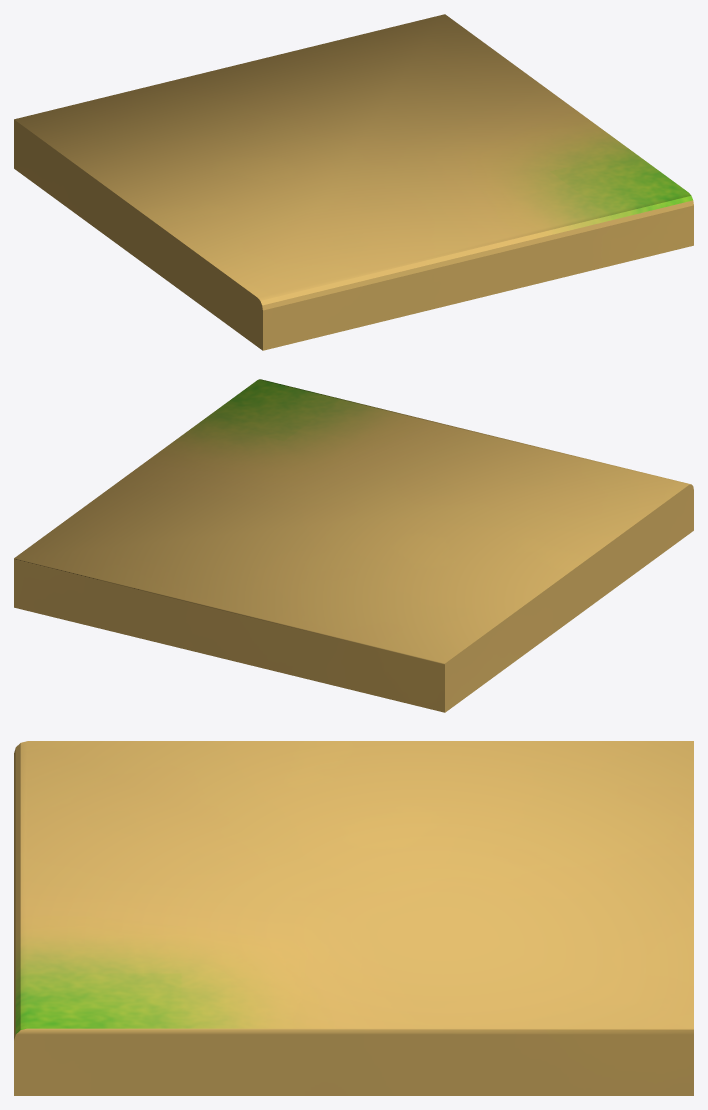
Rendered from Map019.obj.
The picture shows the model from 3 angles, top to bottom: view 1: azimuth 30°, elevation 25°; view 2: azimuth 150°, elevation 25°; view 3: azimuth 270°, elevation 25°; orthographic projection. The views are drawn at different scales.
Visible parts, largest first — view 1: Map.019_Plane.041; view 2: Map.019_Plane.041; view 3: Map.019_Plane.041.
Boxes of the visible parts, x1,y1,x2,y2 form: Map.019_Plane.041: (14, 14, 693, 350); Map.019_Plane.041: (14, 379, 693, 712); Map.019_Plane.041: (14, 741, 693, 1095).
Size of the model in its own units: 1 by 0.1093 by 1.
